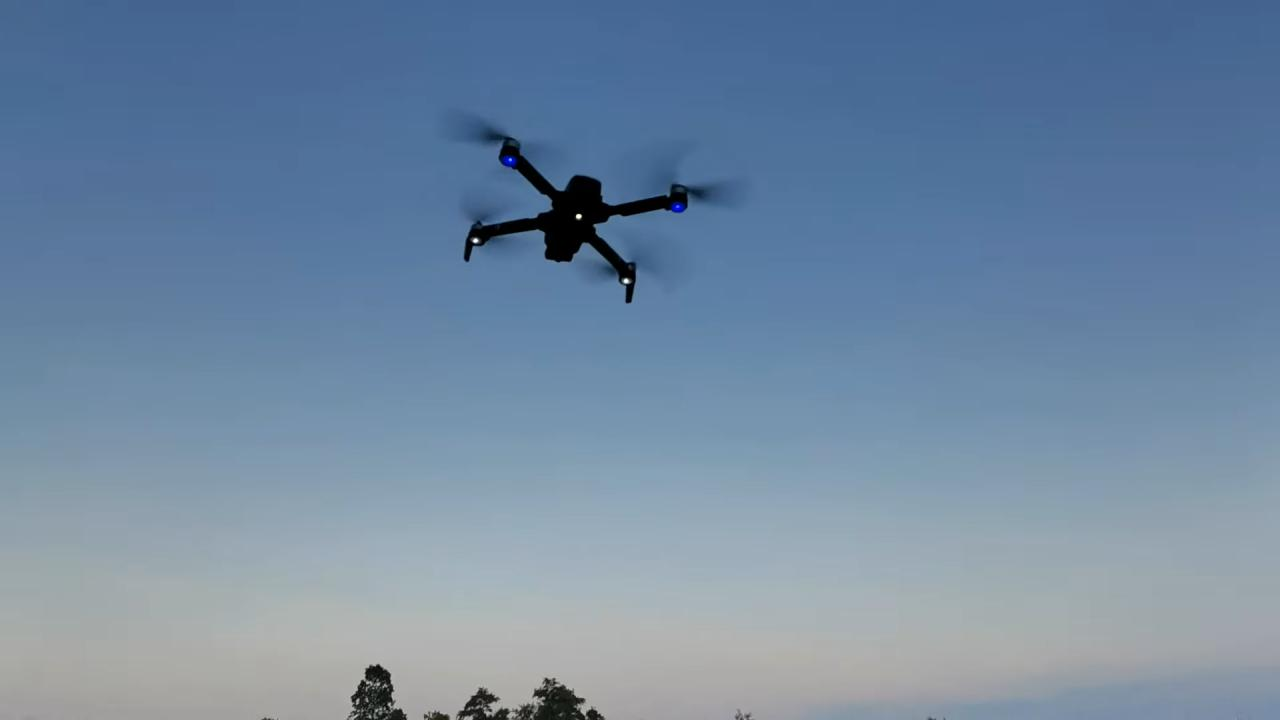Drone: (426, 92, 758, 316)
